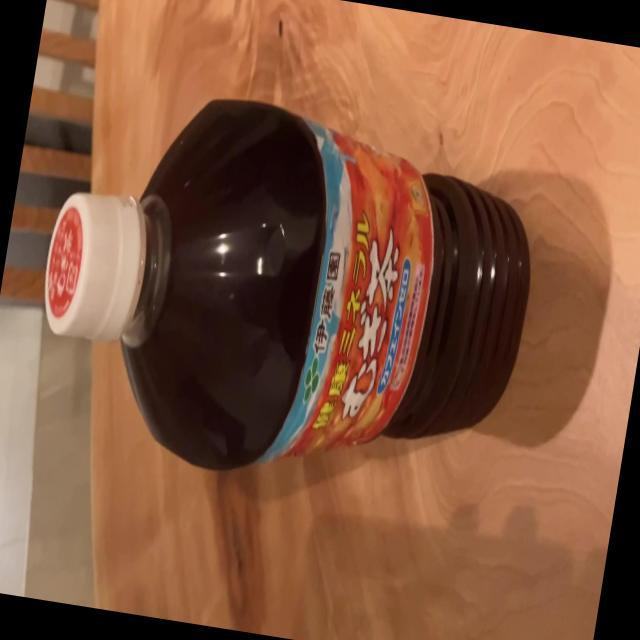good: (19, 72, 554, 519)
